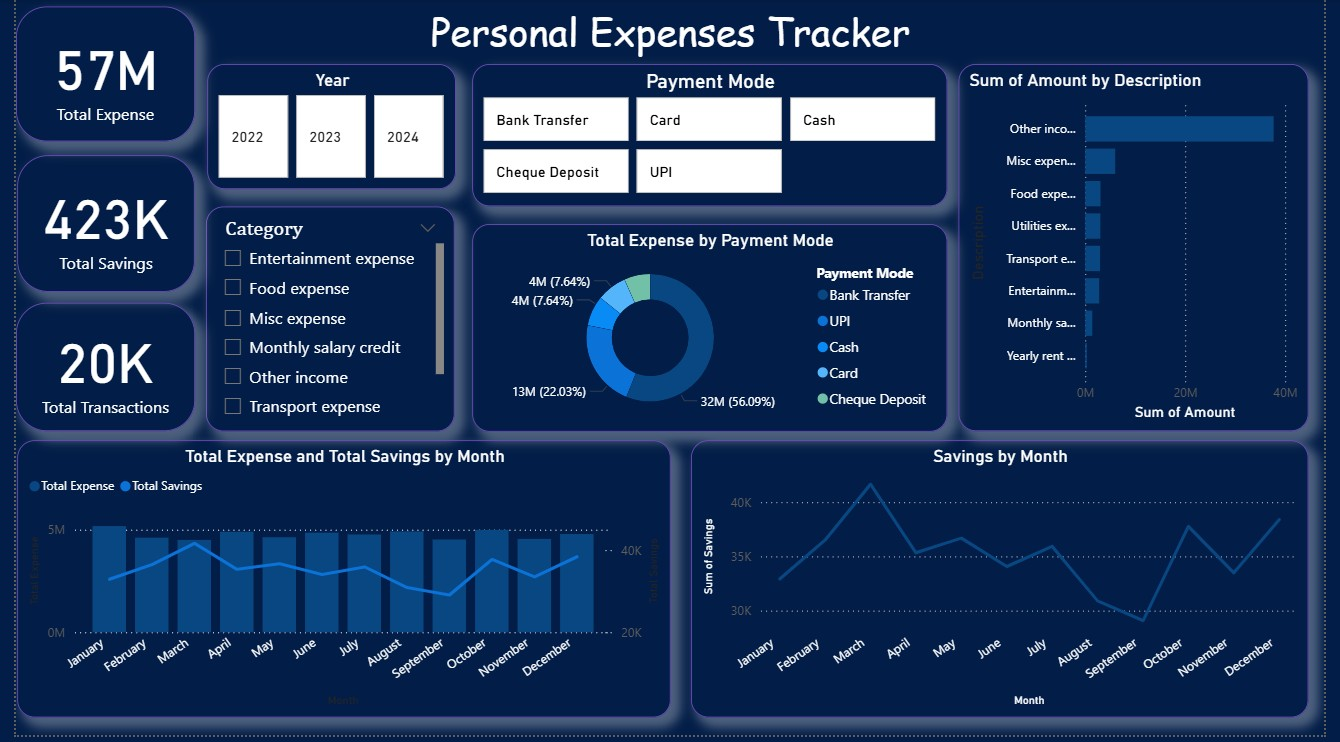

What the dashboard file says about the page in this screenshot:
{"tool":"powerbi","page":{"name":"Page 1","canvas":[1280,720],"ordinal":0},"visuals":[{"type":"card","fields":{"Values":["Personal_Expense_Records.Total Expense"]},"box":[0,7.3,174.9,132.1],"z":0},{"type":"advancedSlicerVisual","fields":{"Values":["Personal_Expense_Records.Payment Mode"]},"box":[446.3,63.6,464.7,122.3],"z":1000},{"type":"slicer","fields":{"Values":["Personal_Expense_Records.Description"]},"box":[185.9,203,243.3,220.1],"z":2000},{"type":"card","fields":{"Values":["Personal_Expense_Records.Total Savings"]},"box":[1.2,152.9,173.6,133.3],"z":3000},{"type":"textbox","box":[0,0,1280.3,73.4],"z":4000},{"type":"card","fields":{"Values":["Personal_Expense_Records.Total Transactions"]},"box":[0,297.1,174.9,126],"z":5000},{"type":"advancedSlicerVisual","fields":{"Values":["Personal_Expense_Records.Date.Variation.Date Hierarchy.Year"]},"box":[187.1,63.6,243.3,122.3],"z":6000},{"type":"donutChart","fields":{"Category":["Personal_Expense_Records.Payment Mode"],"Y":["Personal_Expense_Records.Total Expense"]},"box":[446.3,205.4,464.7,217.7],"z":7000},{"type":"clusteredBarChart","fields":{"Category":["Personal_Expense_Records.Description"],"Y":["Sum(Personal_Expense_Records.Amount)"]},"box":[922,63.6,342.4,359.5],"z":8000},{"type":"lineClusteredColumnComboChart","fields":{"Category":["Personal_Expense_Records.Date.Variation.Date Hierarchy.Month"],"Y":["Personal_Expense_Records.Total Expense"],"Y2":["Personal_Expense_Records.Total Savings"]},"box":[1.2,431.7,639.5,271.5],"z":9000},{"type":"lineChart","title":"Savings by Month","fields":{"Category":["Personal_Expense_Records.Date.Variation.Date Hierarchy.Month"],"Y":["Sum(Personal_Expense_Records.Savings)"]},"box":[660.3,431.7,604.1,271.5],"z":10000}]}

Visuals, with their boxes in screenshot pixels (x1, y1, x2, y2), scaled from the page's 1280x720 canvas onto the 1340x742 screenshot:
card - Personal_Expense_Records.Total Expense: 0/8/183/144
advancedSlicerVisual - Personal_Expense_Records.Payment Mode: 467/66/954/192
slicer - Personal_Expense_Records.Description: 195/209/449/436
card - Personal_Expense_Records.Total Savings: 1/158/183/295
textbox: 0/0/1339/76
card - Personal_Expense_Records.Total Transactions: 0/306/183/436
advancedSlicerVisual - Personal_Expense_Records.Date.Variation.Date Hierarchy.Year: 196/66/451/192
donutChart - Personal_Expense_Records.Payment Mode x Personal_Expense_Records.Total Expense: 467/212/954/436
clusteredBarChart - Personal_Expense_Records.Description x Sum(Personal_Expense_Records.Amount): 965/66/1324/436
lineClusteredColumnComboChart - Personal_Expense_Records.Date.Variation.Date Hierarchy.Month x Personal_Expense_Records.Total Expense: 1/445/671/725
"Savings by Month" lineChart: 691/445/1324/725
